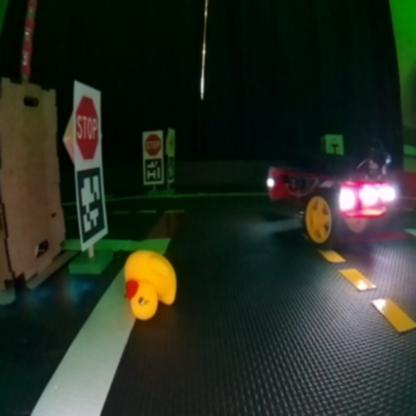duckie: (118, 240, 192, 337)
duckiebot: (261, 144, 409, 250)
